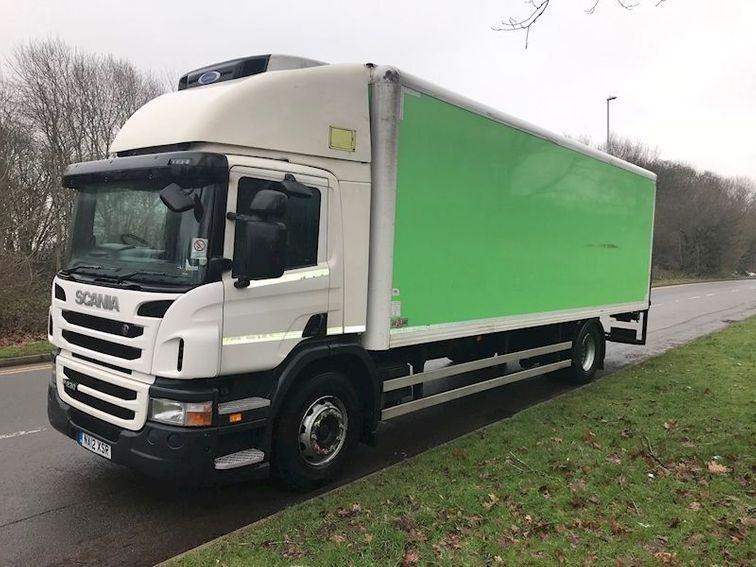Semi: (45, 51, 656, 491)
